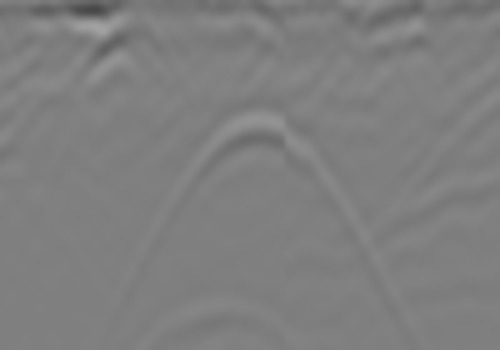hyperbola: (125, 105, 414, 346)
